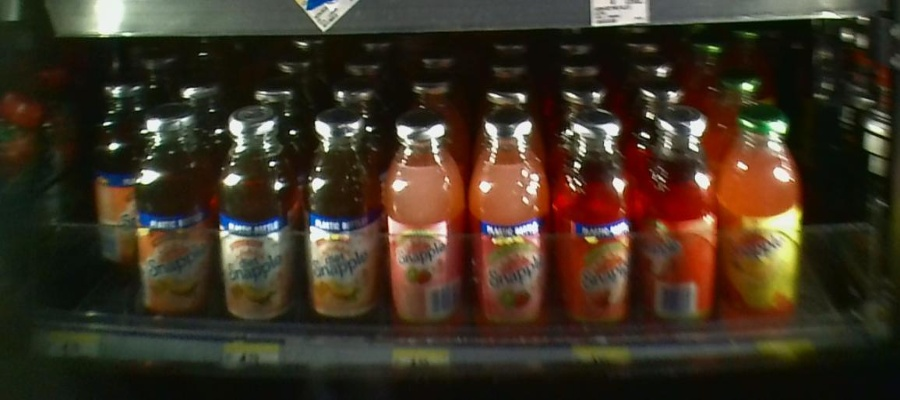bottle: (380, 105, 469, 340), (552, 100, 634, 336), (635, 103, 718, 332), (718, 100, 802, 324), (216, 106, 300, 327), (472, 102, 550, 337), (305, 105, 379, 333), (138, 108, 214, 324), (93, 76, 138, 268)
